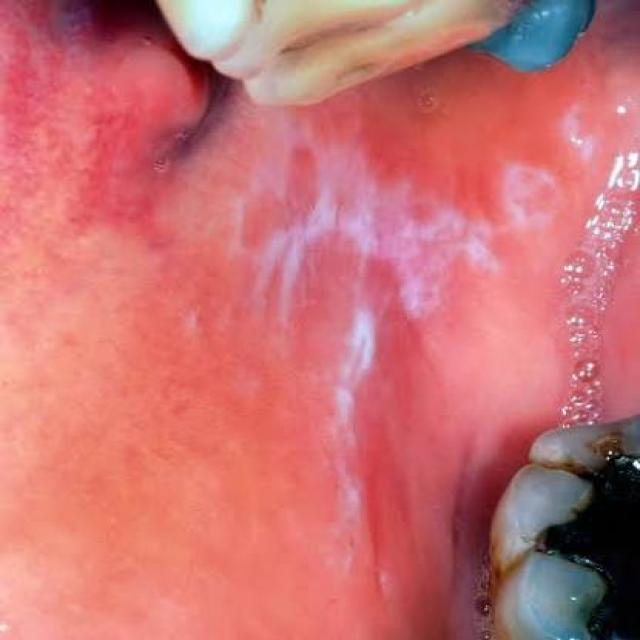leukoplakia-like-detection: (194, 84, 629, 604)
processing_area: (2, 1, 637, 639)
